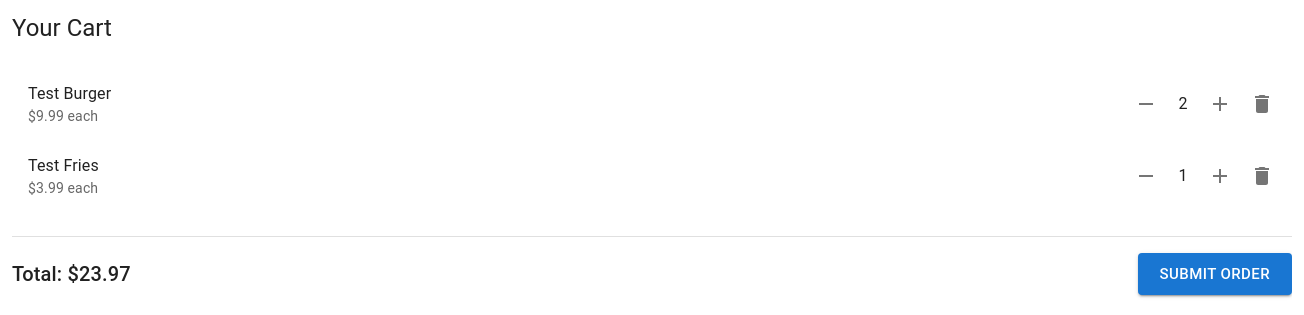
Test: Cart › should remove item when quantity reaches zero
The width and height of the screenshot is (1304, 315).
# Test Fries has quantity 1, decrement should remove it
Click the button named "decrease test fries" at x=1146, y=176, box [1129,159,1163,193]
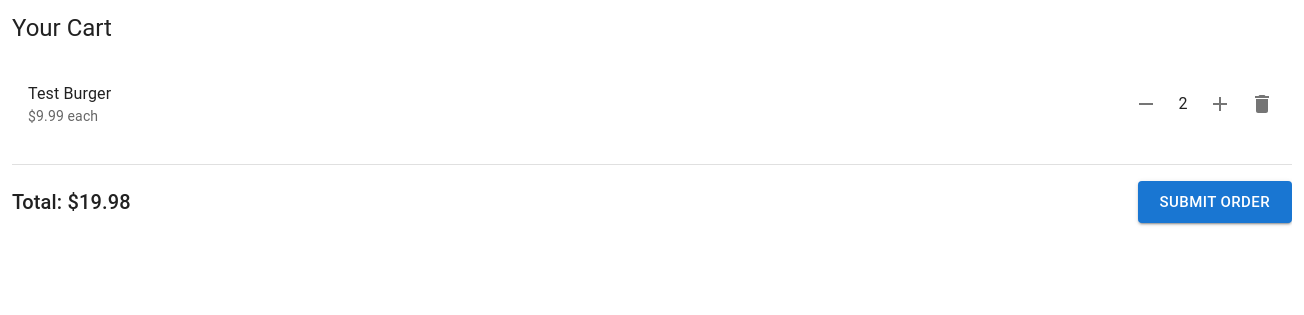
Result: the text "Test Fries" is gone
